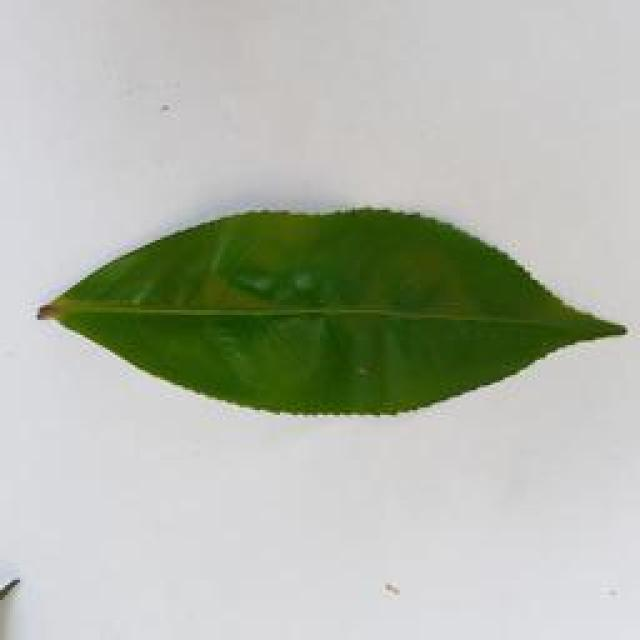Healthy: (28, 204, 624, 420)
